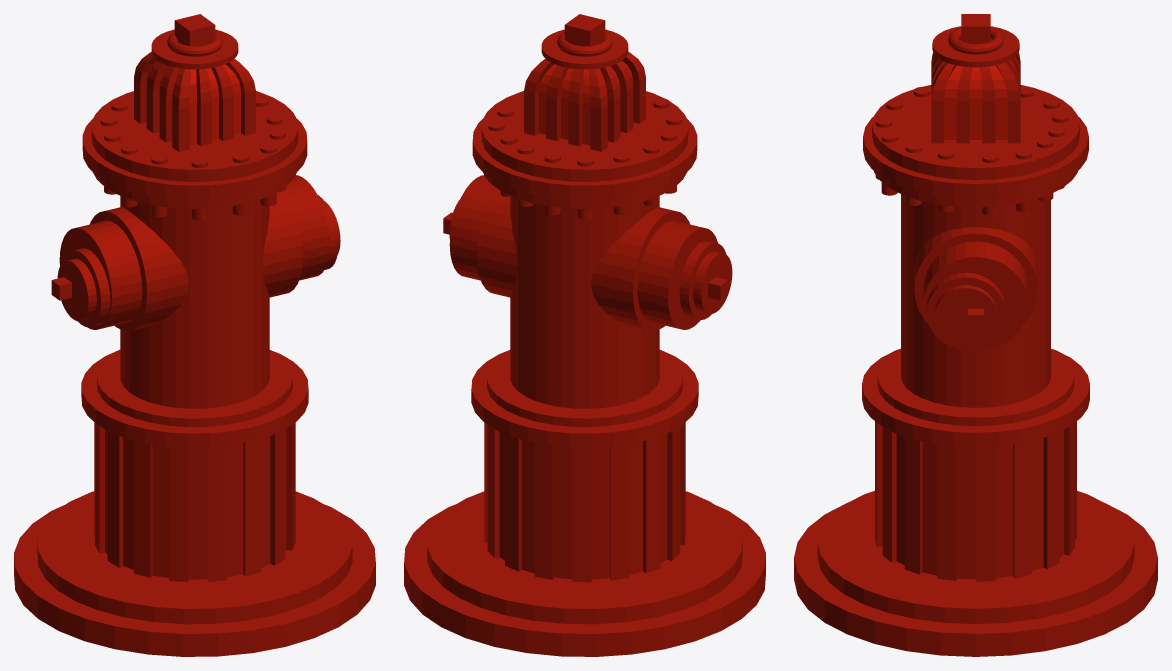
Rendered from sumusluk.fbx.
3 renders of one model, left to right at view 1: azimuth 30°, elevation 25°; view 2: azimuth 150°, elevation 25°; view 3: azimuth 270°, elevation 25°, orthographic.
Parts seen in each view (by area): view 1: Cylinder.002, Cylinder.005, Cylinder.001, Cylinder, Cube.002, Cylinder.015, Cylinder.006, Cylinder.003, Cylinder.004, Cylinder.014, Cylinder.008, Cylinder.007 (+7 smaller); view 2: Cylinder.002, Cylinder.005, Cylinder.001, Cylinder, Cube.002, Cylinder.015, Cylinder.006, Cylinder.003, Cylinder.004, Cylinder.014, Cylinder.008, Cylinder.007 (+6 smaller); view 3: Cylinder.002, Cylinder.001, Cylinder.005, Cylinder, Cylinder.015, Cube.002, Cylinder.003, Cylinder.004, Cylinder.014, Cylinder.007, Cylinder.006, Cylinder.011 (+5 smaller).
Boxes of the visible parts, x1,y1,x2,y2 form: Cylinder.002: [94, 422, 295, 582]; Cylinder.005: [120, 196, 269, 408]; Cylinder.001: [37, 491, 352, 624]; Cylinder: [14, 504, 375, 656]; Cube.002: [134, 52, 255, 151]; Cylinder.015: [91, 91, 298, 181]; Cylinder.006: [89, 191, 303, 331]; Cylinder.003: [81, 349, 308, 447]; Cylinder.004: [97, 351, 292, 426]; Cylinder.014: [82, 117, 307, 199]; Cylinder.008: [59, 220, 142, 329]; Cylinder.007: [284, 175, 330, 280]; Cylinder.002: [484, 422, 685, 582]; Cylinder.005: [510, 197, 659, 408]; Cylinder.001: [427, 491, 742, 624]; Cylinder: [404, 504, 765, 656]; Cube.002: [524, 52, 645, 151]; Cylinder.015: [481, 91, 688, 181]; Cylinder.006: [476, 188, 690, 331]; Cylinder.003: [471, 349, 698, 447]; Cylinder.004: [487, 351, 682, 426]; Cylinder.014: [472, 117, 697, 199]; Cylinder.008: [637, 220, 718, 329]; Cylinder.007: [449, 175, 497, 280]; Cylinder.002: [875, 421, 1076, 581]; Cylinder.001: [817, 490, 1134, 623]; Cylinder.005: [901, 194, 1050, 407]; Cylinder: [794, 503, 1157, 656]; Cylinder.015: [872, 85, 1079, 180]; Cube.002: [931, 53, 1020, 143]; Cylinder.003: [862, 348, 1089, 447]; Cylinder.004: [877, 349, 1074, 426]; Cylinder.014: [863, 116, 1088, 198]; Cylinder.007: [923, 241, 1028, 351]; Cylinder.006: [914, 227, 1037, 324]; Cylinder.011: [935, 285, 996, 344].
Bounding box in the file's own units: 200 × 340 × 200.
1 material, 1 textured.
